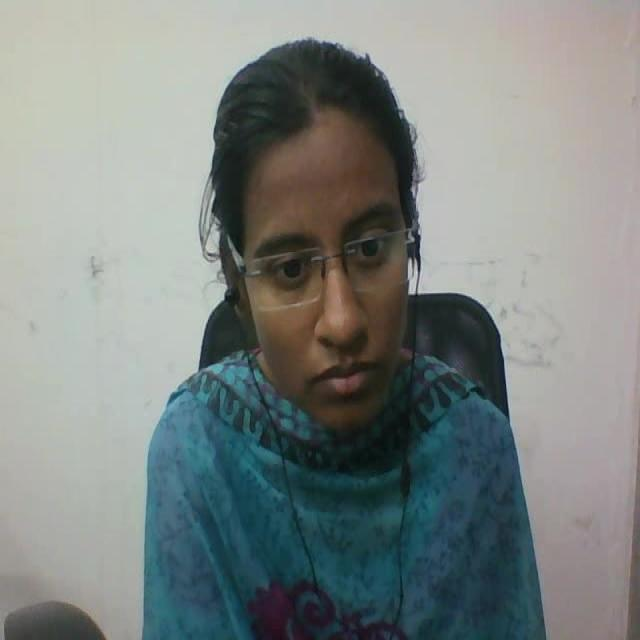Bored: (171, 15, 444, 468)
